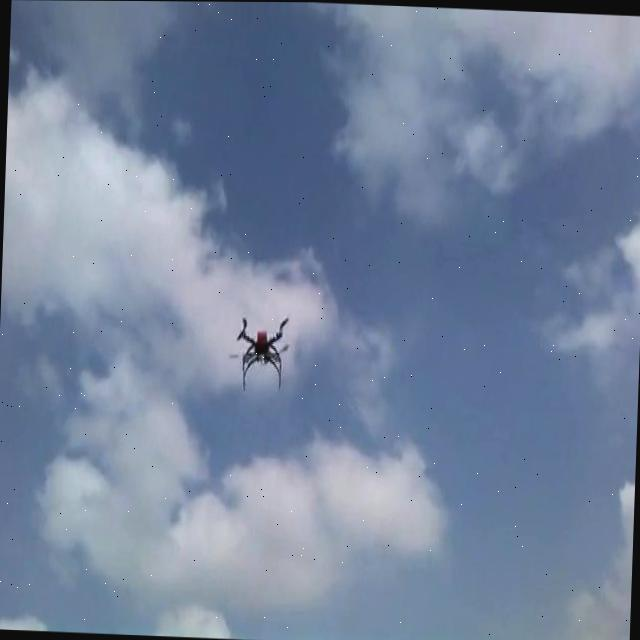drone: (228, 306, 290, 390)
